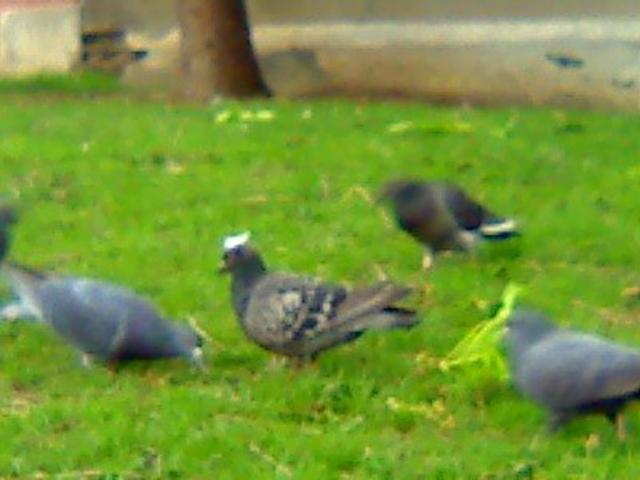Bird: (210, 234, 422, 389), (2, 260, 203, 380), (494, 306, 638, 442), (378, 172, 524, 270), (0, 203, 32, 262)
